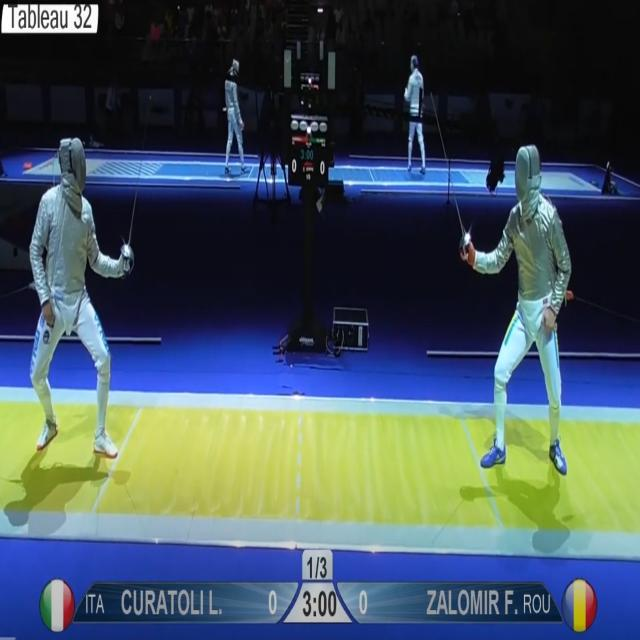fencer: (462, 145, 572, 483), (30, 142, 128, 466)
overlayLeft: (73, 579, 249, 623)
overlayRight: (383, 584, 562, 623)
scoreLeft: (252, 583, 299, 623)
scoreRight: (339, 583, 380, 622)
